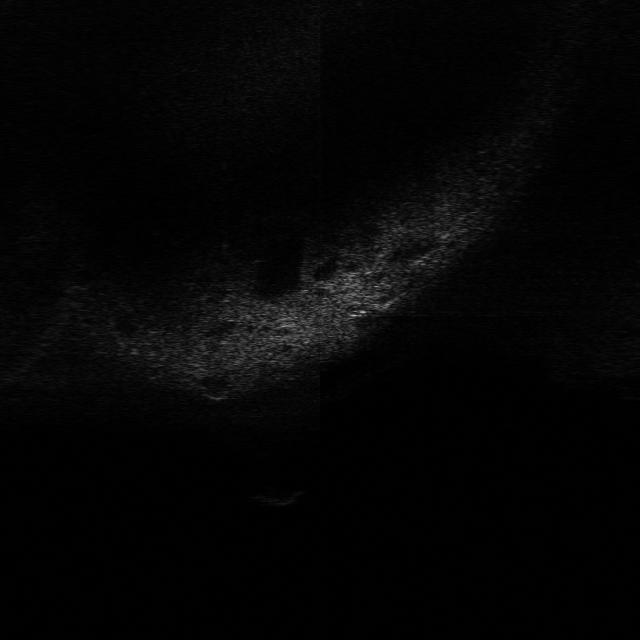cube: (247, 482, 306, 509)
